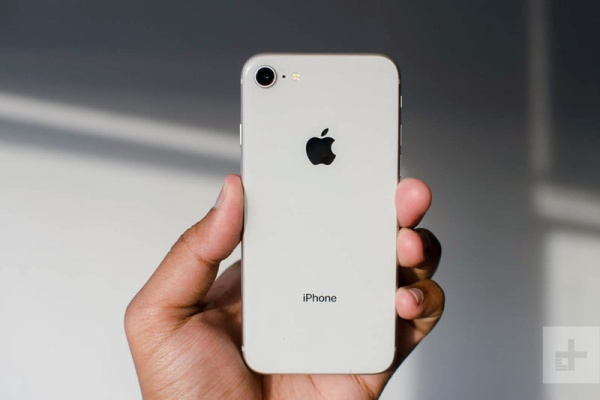apple: (299, 124, 355, 177)
